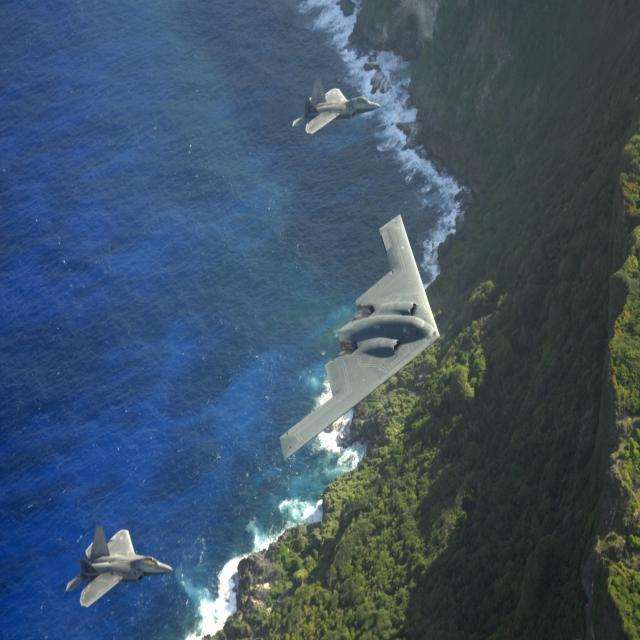MIL_Plane: (279, 277, 441, 398), (65, 525, 174, 609), (292, 72, 381, 128)
